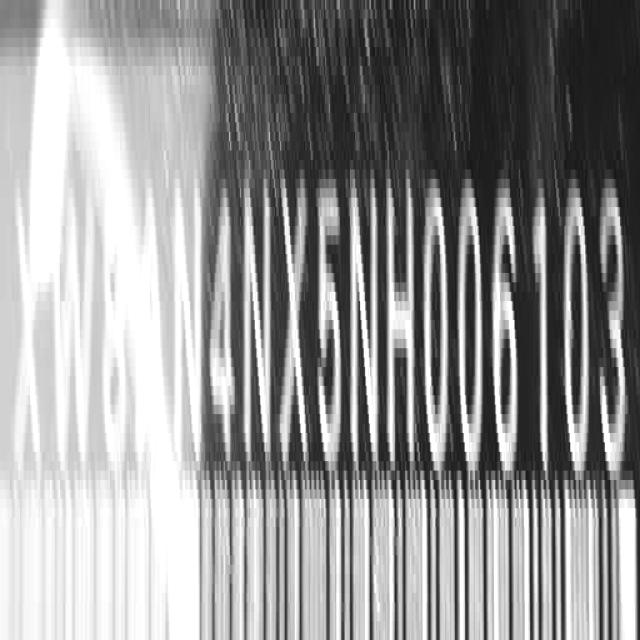0: (561, 168, 590, 486), (424, 169, 452, 482), (458, 172, 486, 483)
1: (531, 170, 554, 479)
3: (600, 169, 631, 493)
4: (209, 178, 235, 470)
5: (314, 164, 342, 470)
6: (491, 172, 524, 477)
8: (103, 173, 130, 479)
A: (135, 160, 168, 478)
H: (385, 171, 417, 477)
N: (242, 166, 272, 478), (350, 172, 380, 479), (174, 164, 202, 477)
W: (51, 177, 96, 463)
X: (12, 167, 44, 498), (279, 162, 311, 470)
